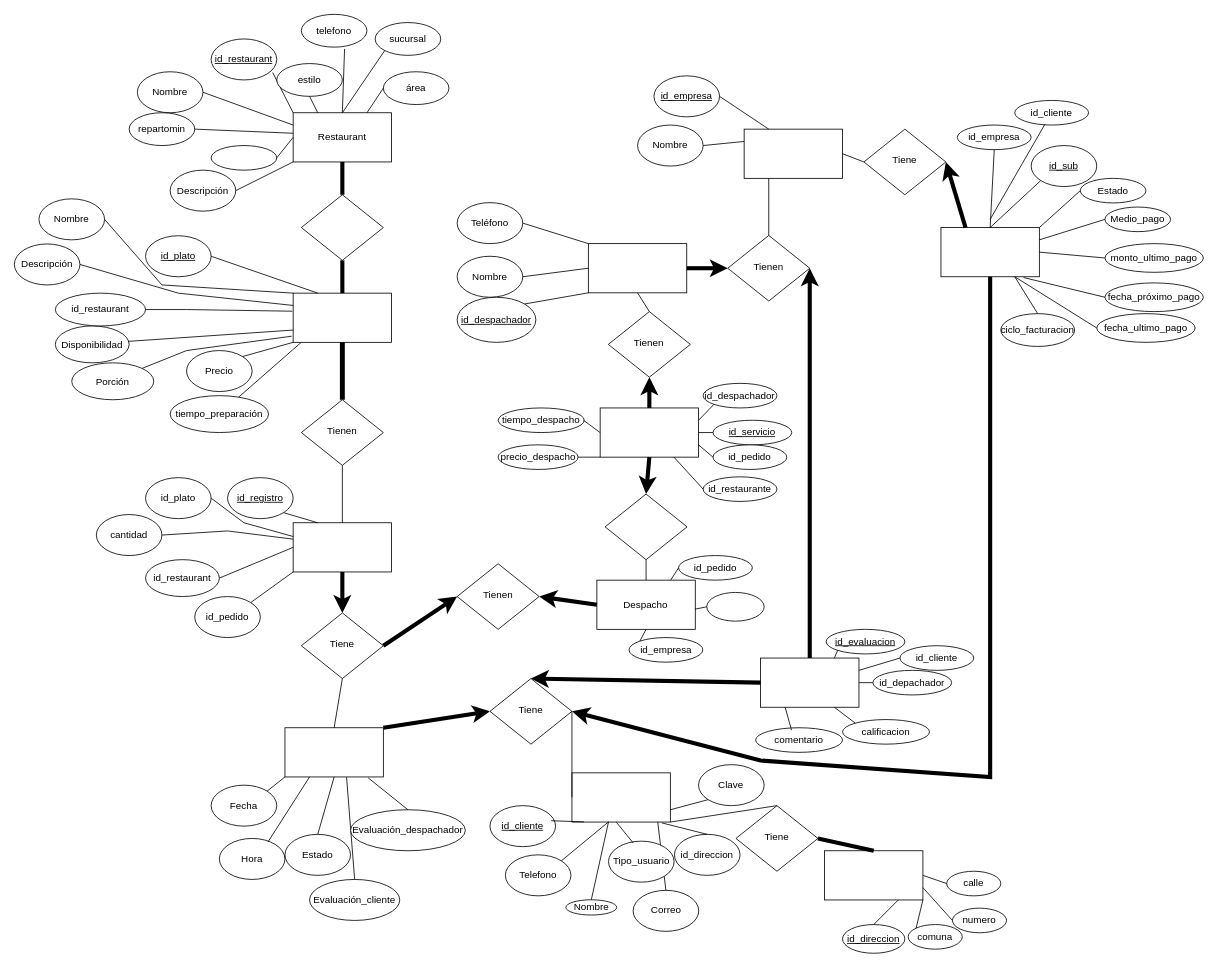
Image size: 1218x968. Some labels were removed from this diagram. Here are the shapes that lost their labels. From the top down, the centre of each, then its label:
At [243,157]: "Vigente".
At [793,153]: "Empresa de despacho".
At [342,227]: "Ofrece".
At [637,268]: "Despachador".
At [989,252]: "Subscripciones".
At [342,317]: "Platos".
At [649,432]: "Servicio Despacho".
At [645,526]: "pertenece".
At [342,547]: "Registro Pedido".
At [735,606]: "id_despacho".
At [809,682]: "Evaluacion".
At [333,752]: "Pedido".
At [620,797]: "Cliente".
At [873,875]: "Direccion_usuario".
